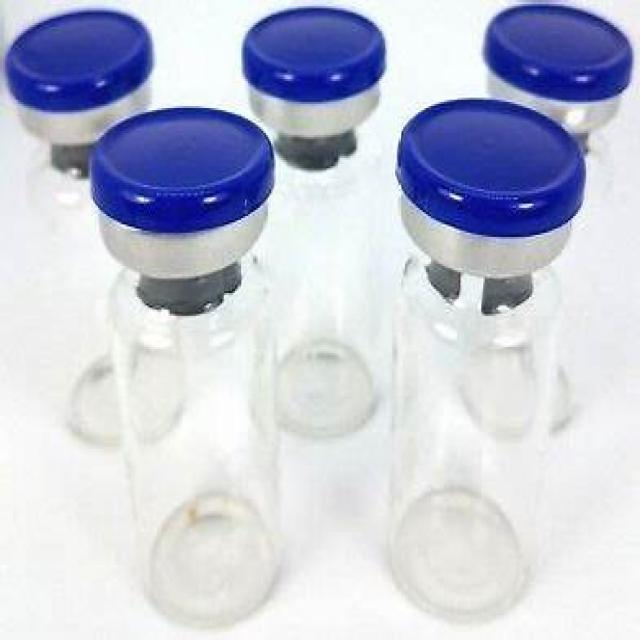vial: (398, 95, 588, 224), (98, 111, 265, 211), (234, 14, 393, 102), (490, 4, 631, 96), (7, 10, 154, 90)
